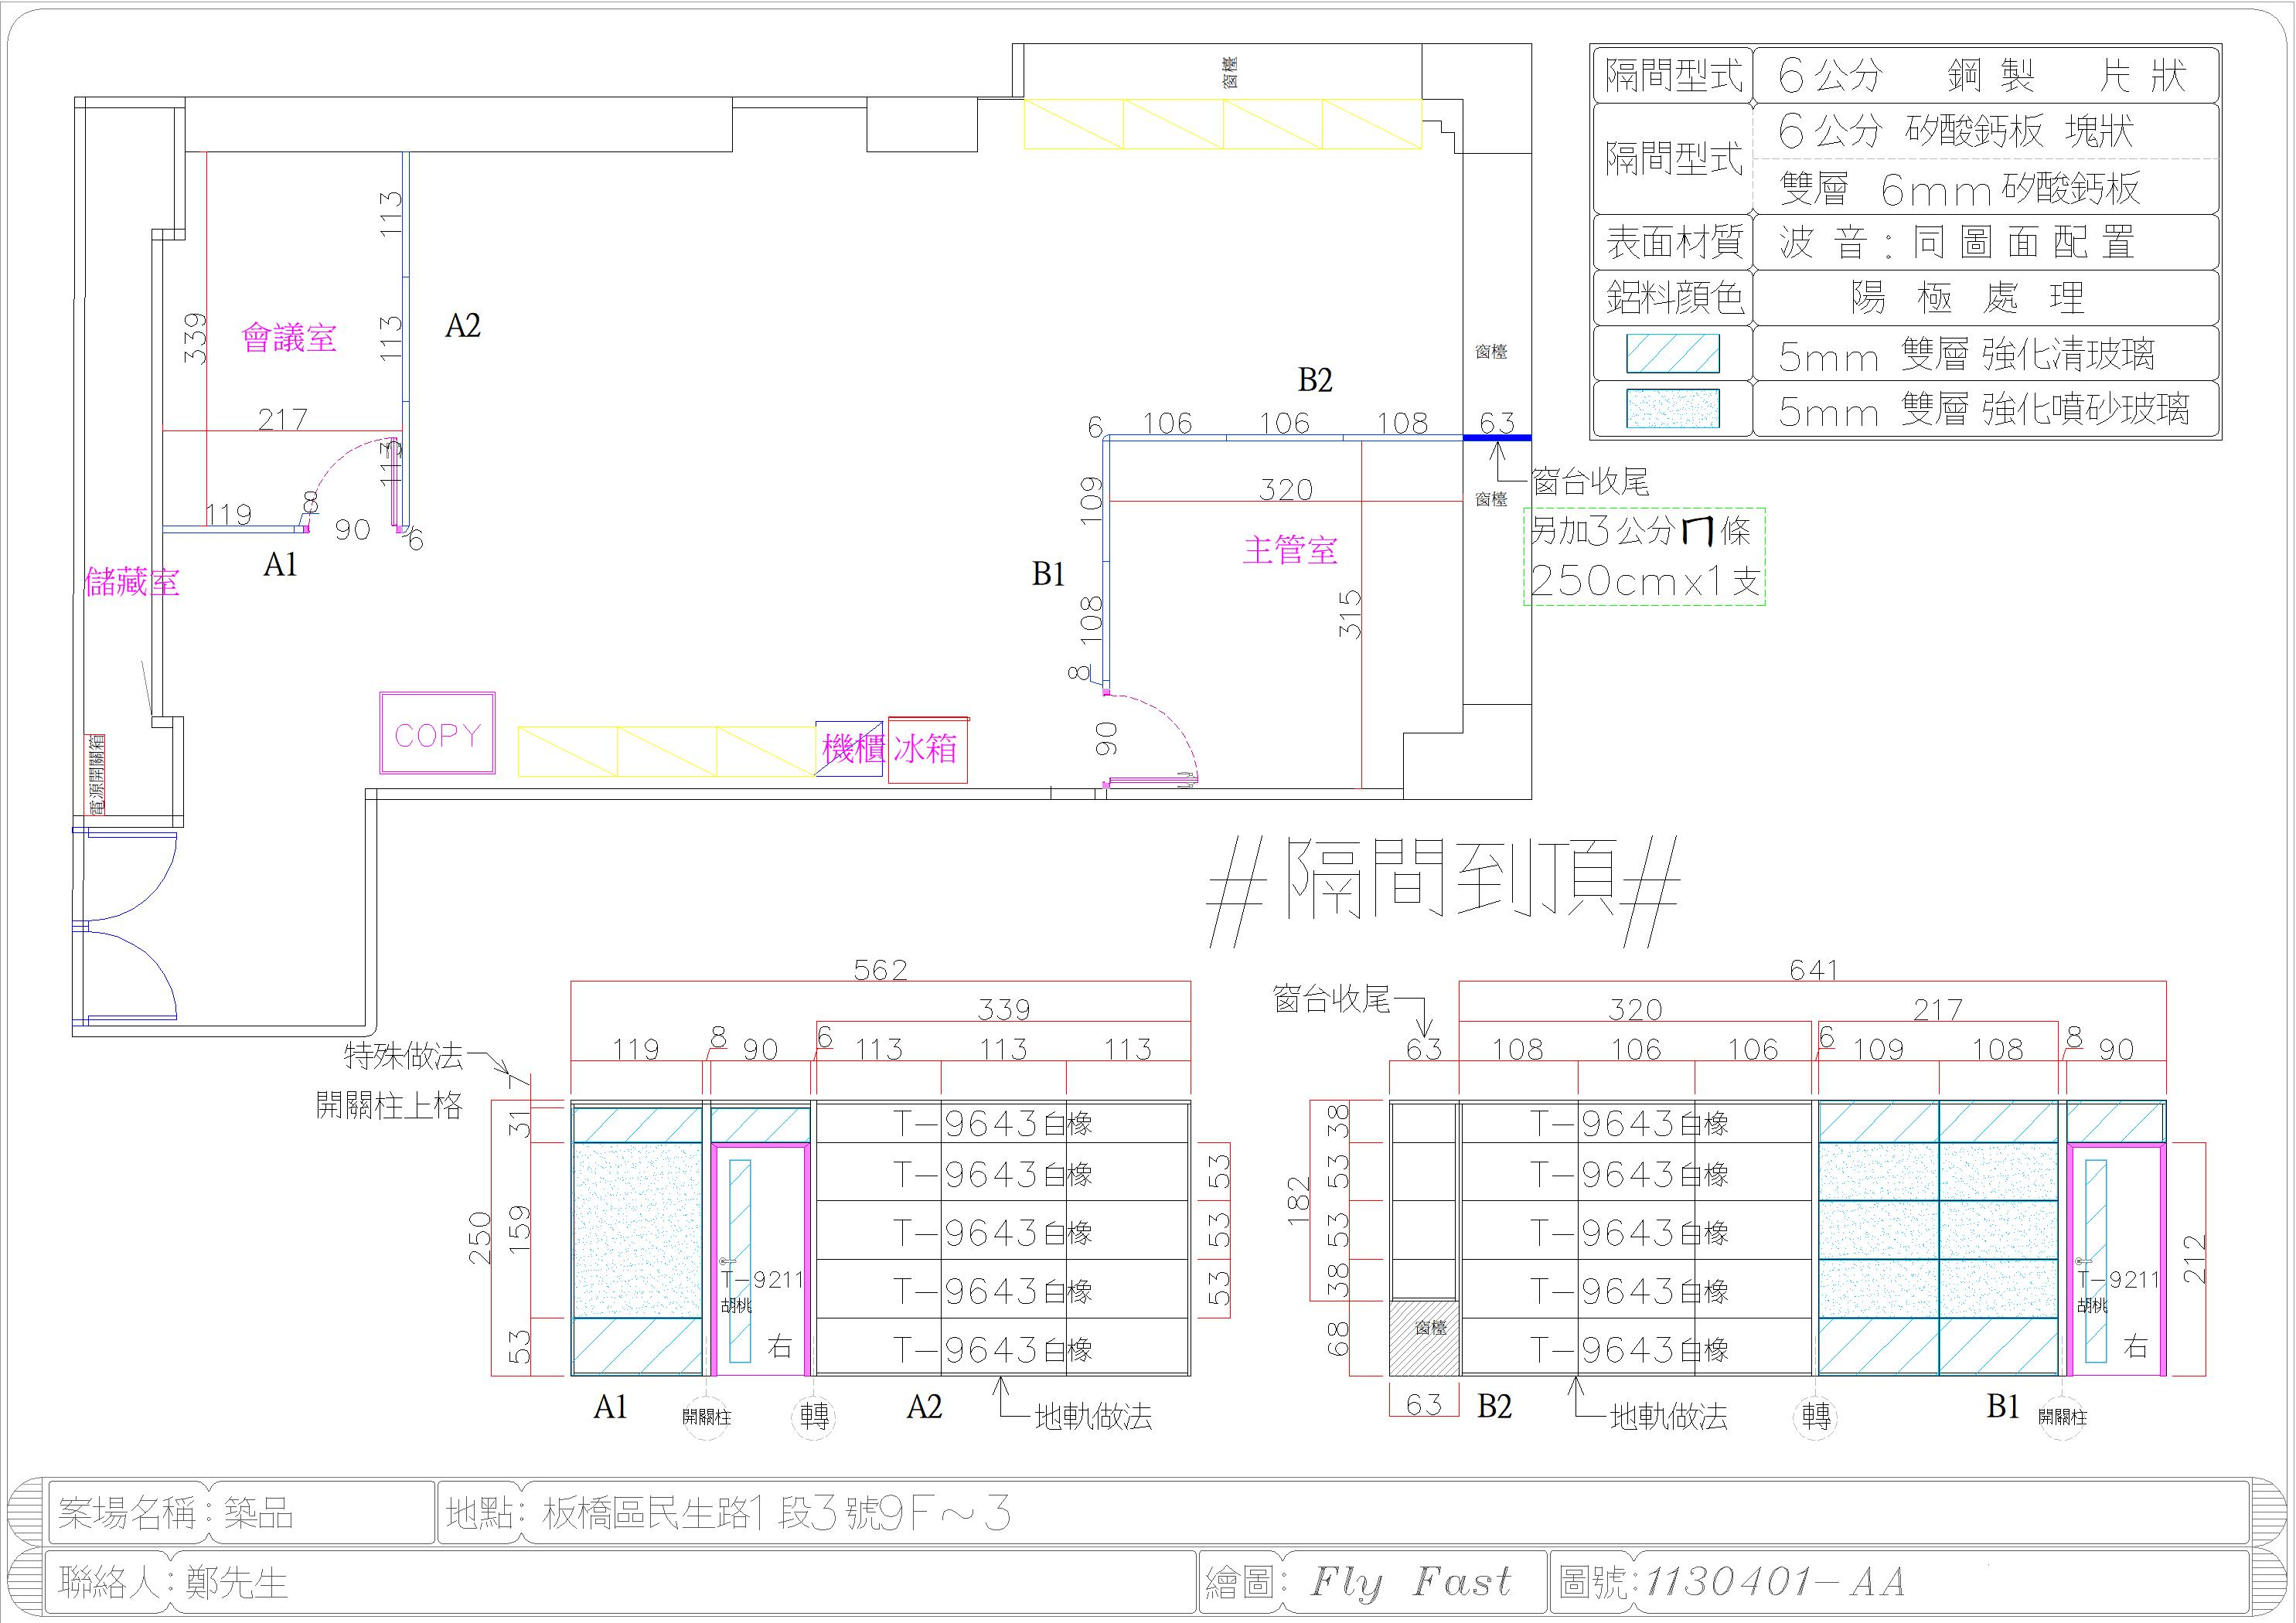GSP: (573, 1142, 701, 1317)
SG: (573, 1107, 701, 1142)
